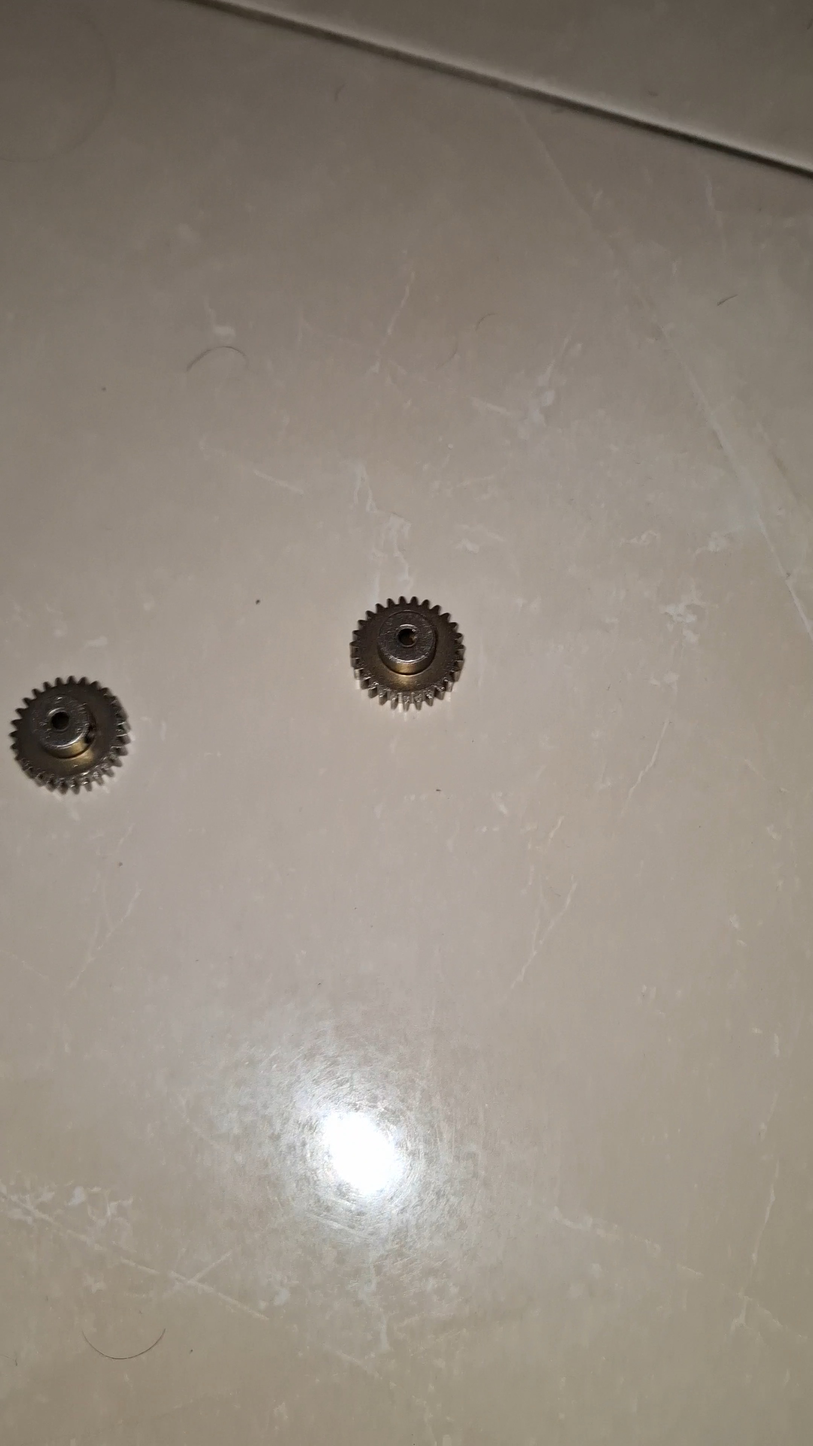spur gear: (11, 677, 129, 793), (351, 596, 464, 708)
